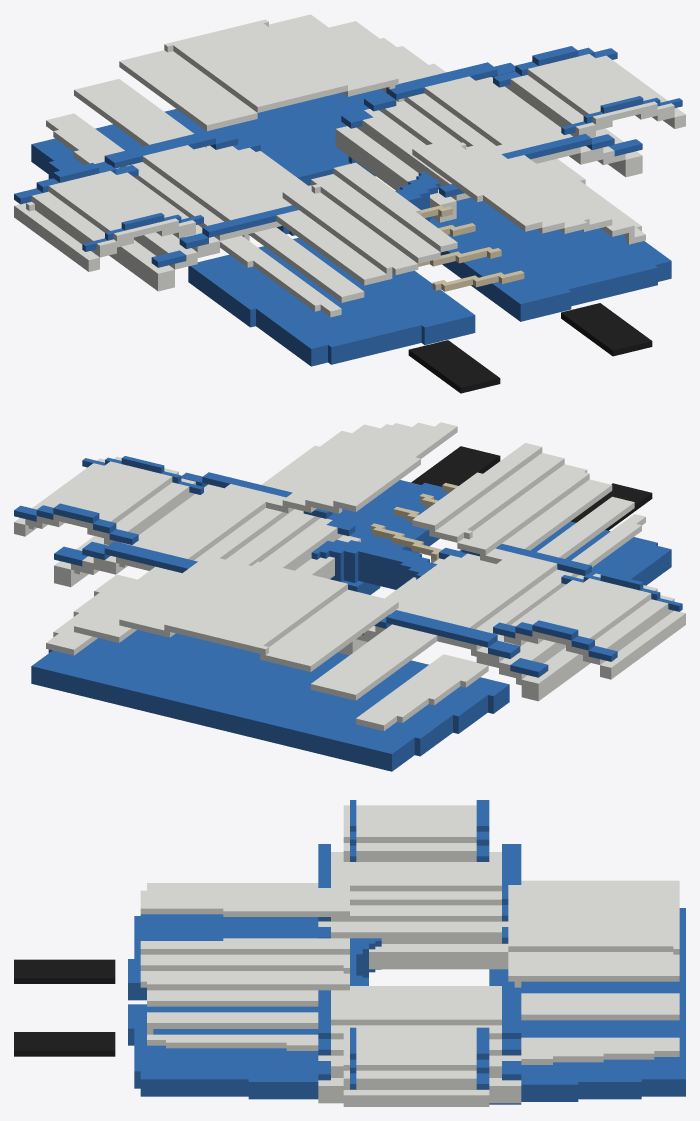
The model's file is football_armor.glb.
3 views of the same model, one above another, from view 1: azimuth 30°, elevation 25°; view 2: azimuth 150°, elevation 25°; view 3: azimuth 270°, elevation 25° (orthographic). The views are drawn at different scales.
Parts seen in each view (by area): view 1: football_armor:compound; view 2: football_armor:compound; view 3: football_armor:compound.
Boxes of the visible parts, box(x1,y1,x2,y2) form: football_armor:compound: box(14, 14, 685, 393); football_armor:compound: box(14, 422, 685, 771); football_armor:compound: box(14, 800, 685, 1106).
Size of the model in its own units: 0.636 by 0.09 by 0.636.
